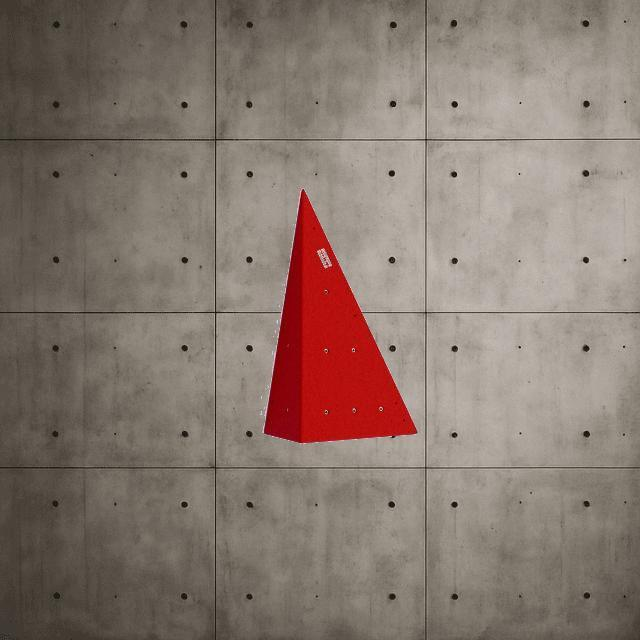Volume: (262, 186, 420, 444)
